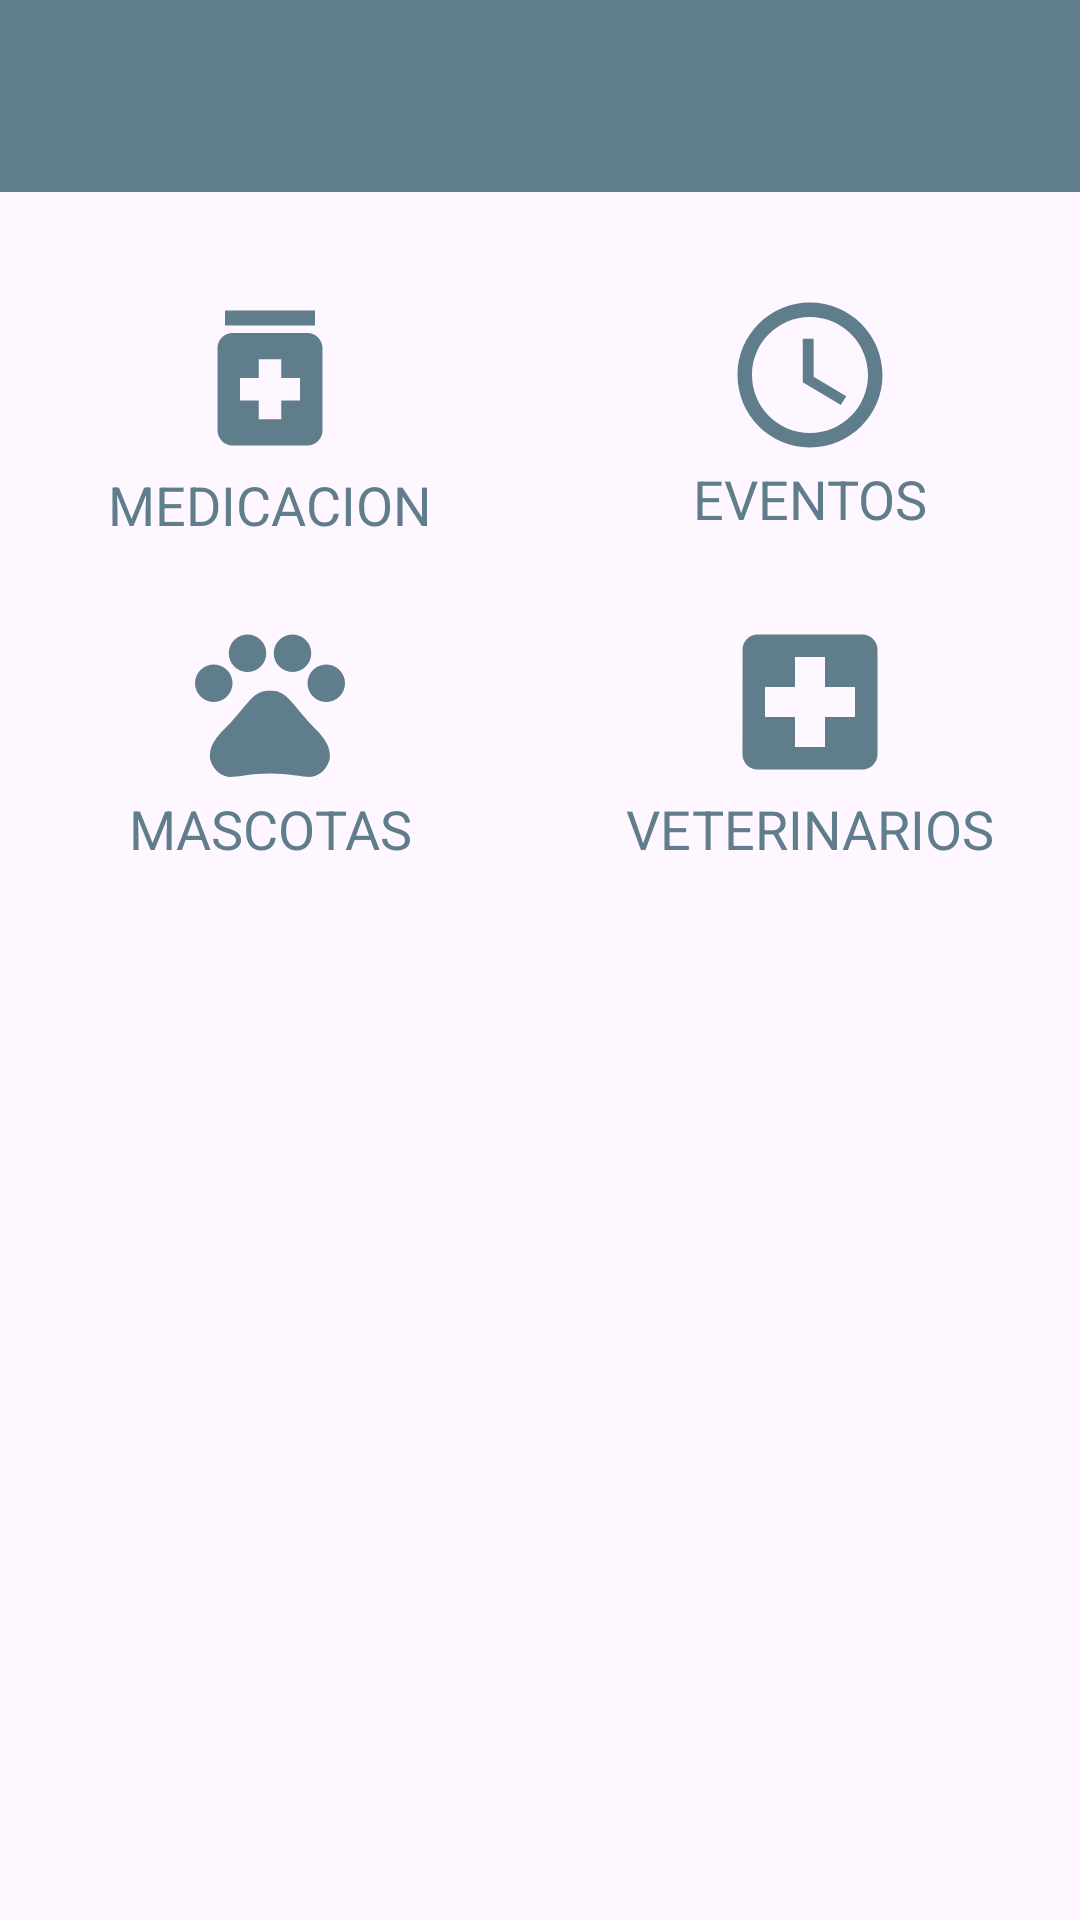

Screen size 1080px x 1920px. Icon name, then its box in pixels as (x1, y1, x2, y2):
acces time: (737, 302, 883, 448)
local hospital: (742, 634, 878, 770)
